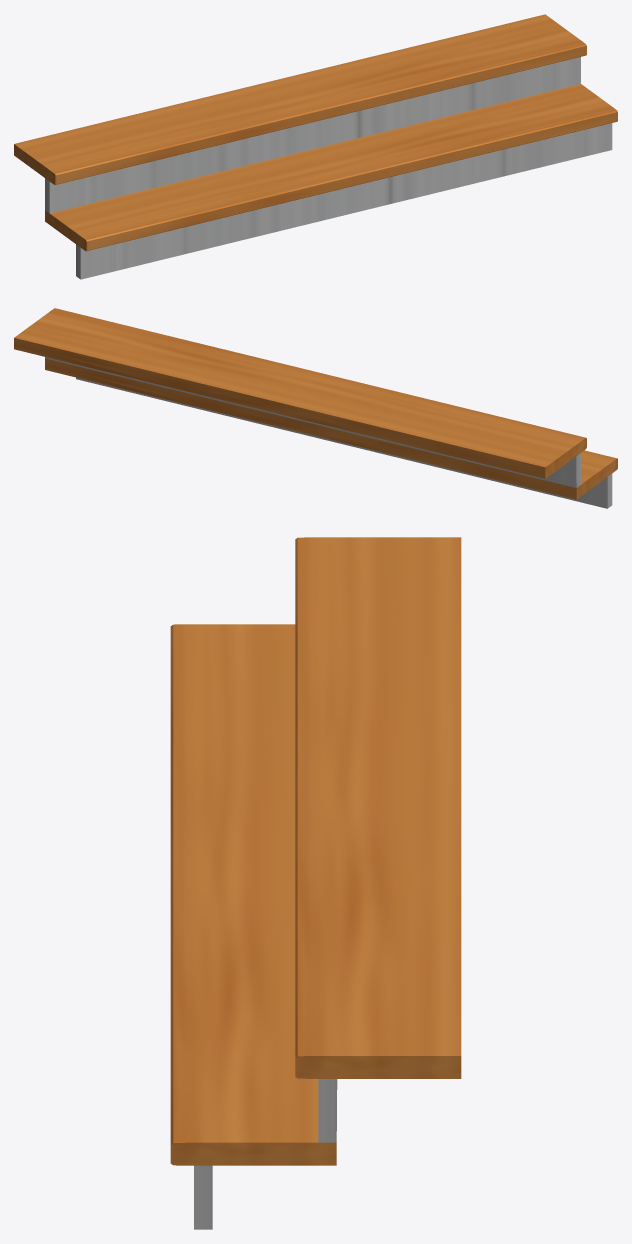
File: WoodenStairs.fbx
3 renders of one model, top to bottom at view 1: azimuth 30°, elevation 25°; view 2: azimuth 150°, elevation 25°; view 3: azimuth 270°, elevation 25°, orthographic. The views are drawn at different scales.
Parts seen in each view (by area): view 1: WoodStair; view 2: WoodStair; view 3: WoodStair.
Part boxes in pixels (x1=…): WoodStair: x1=14, y1=14, x2=617, y2=279; WoodStair: x1=14, y1=308, x2=617, y2=508; WoodStair: x1=170, y1=537, x2=461, y2=1229.
Size of what is drawn, in the model's own units: 200 by 31.23 by 47.32.
